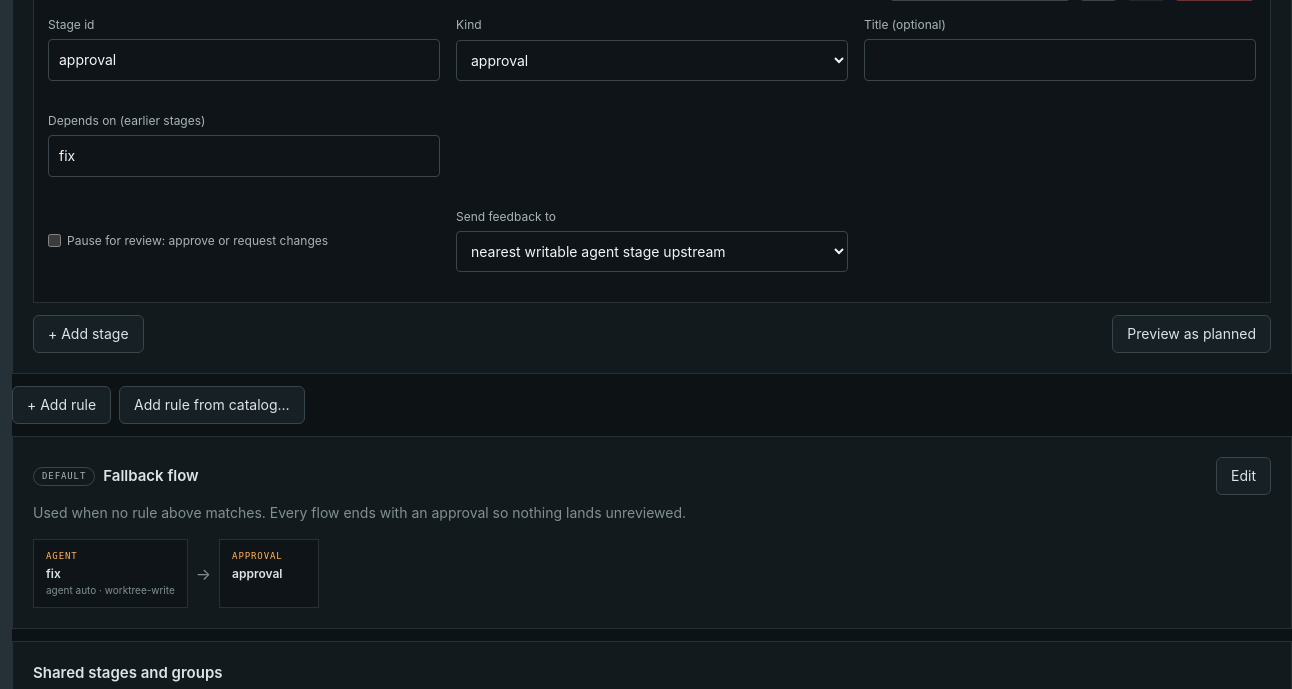
Test case: RulesView › drops a preview once the rules change, and ignores one asked for before
This screenshot has width=1292, height=689.
(page scrolled)
Click the button "Preview as planned" at (1192, 334), box [1112, 315, 1271, 353]
(page scrolled)
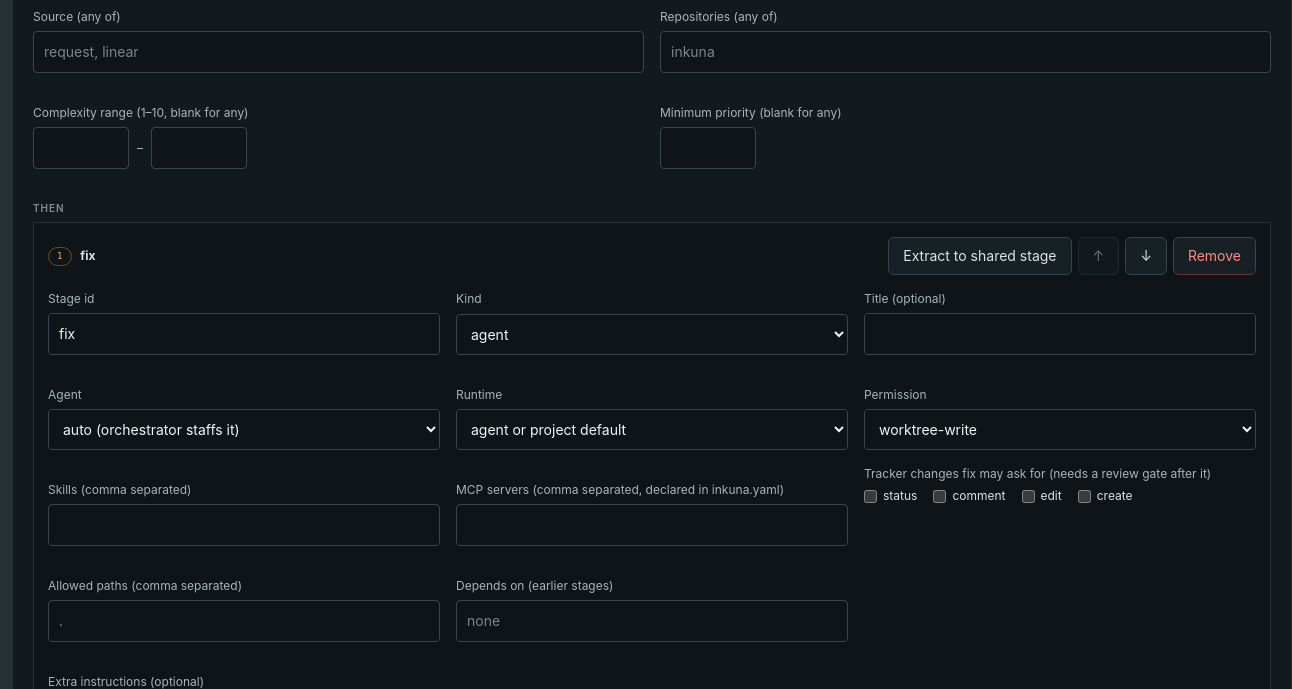
# Any edit makes the shown preview out of date.
Type "Fix it" into the field labelled "Title (optional)" at (1060, 334), box [864, 313, 1256, 355]
(page scrolled)
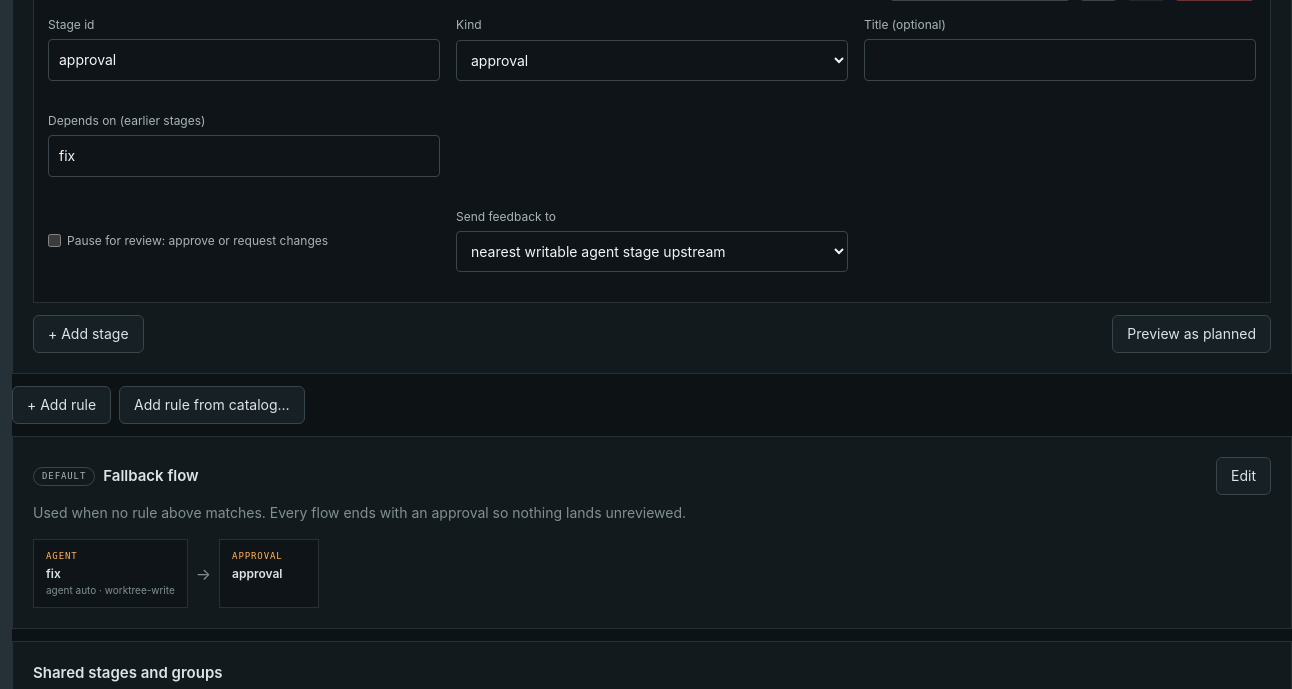
Click the button "Preview as planned" at (1192, 334), box [1112, 315, 1271, 353]
(page scrolled)
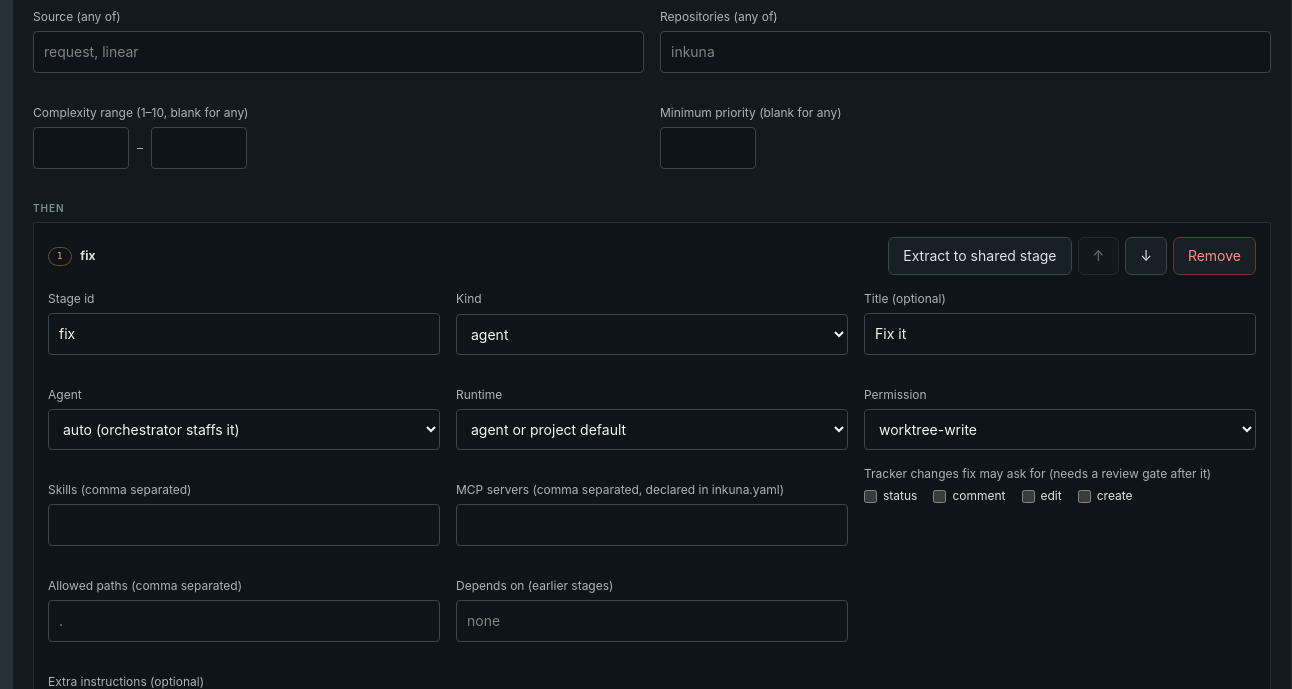
Replace the text in the field labelled "Title (optional)" with "Fix it now" at (1060, 334), box [864, 313, 1256, 355]
(page scrolled)
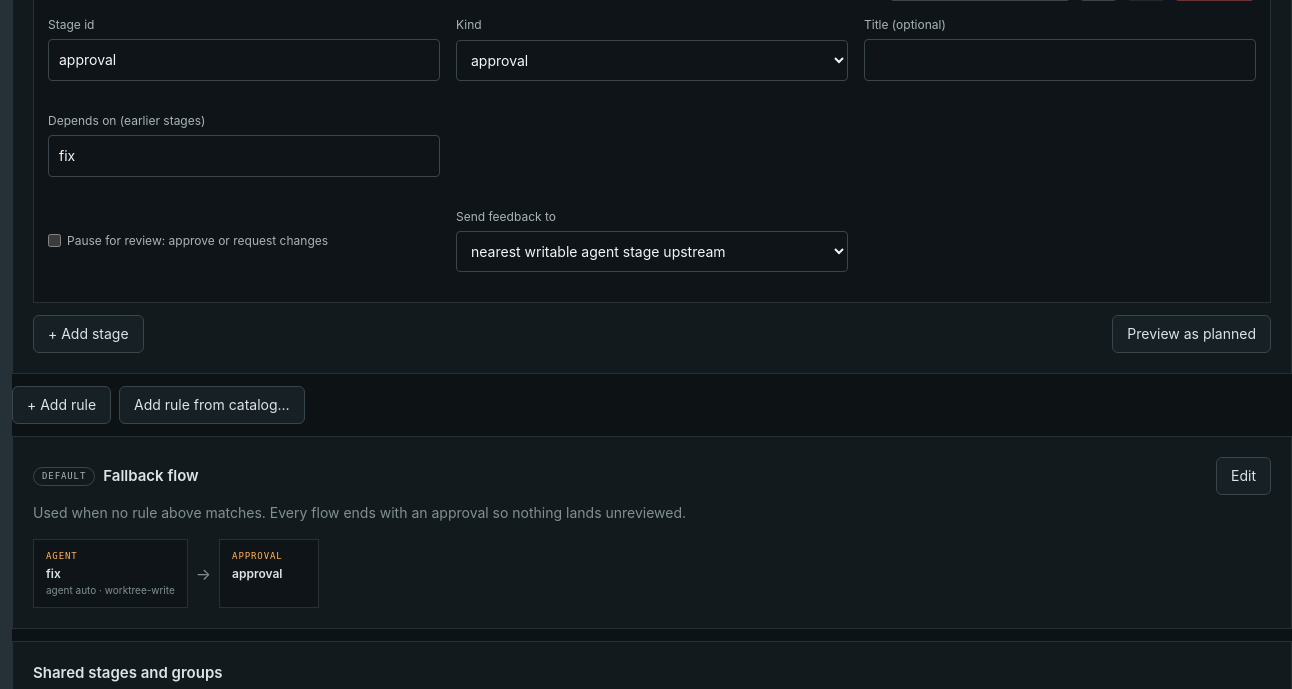
Click the button "Preview as planned" at (1192, 334), box [1112, 315, 1271, 353]
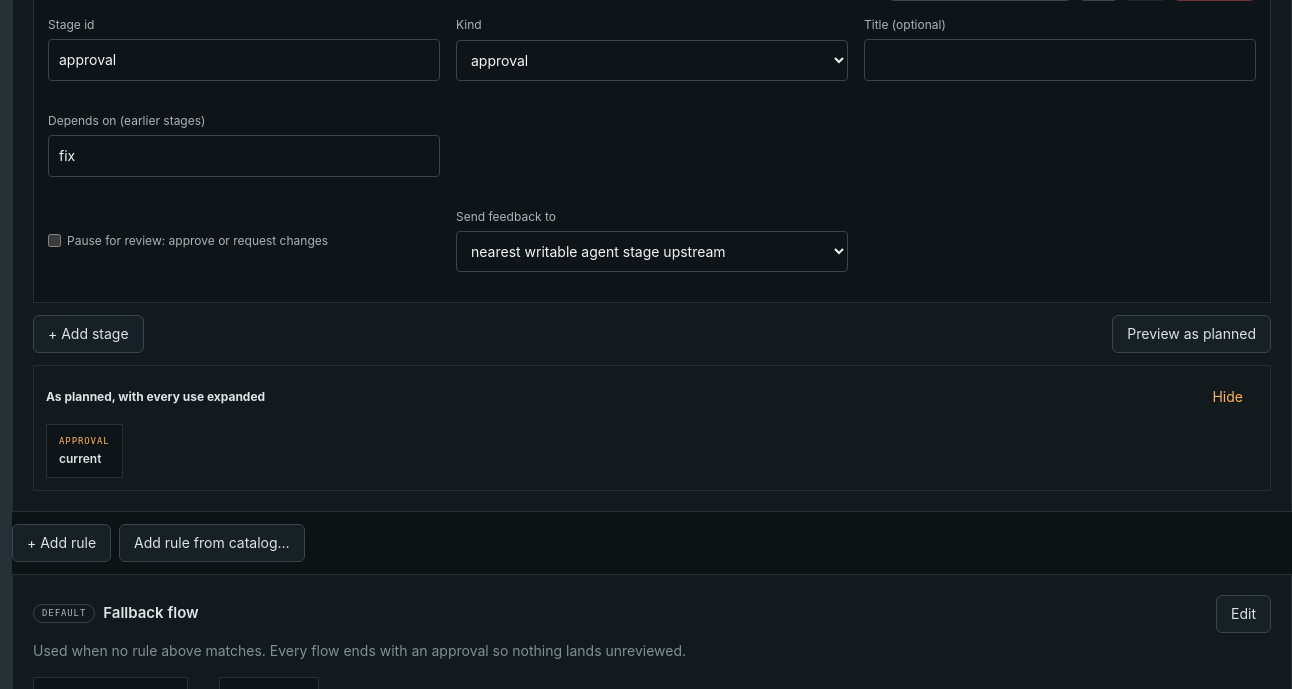
Expected: the element named "Stages of bugfix as planned" does not show "stale", [33, 365, 1271, 490]
Now the element named "Stages of bugfix as planned" shows "current", box [59, 450, 101, 466]
